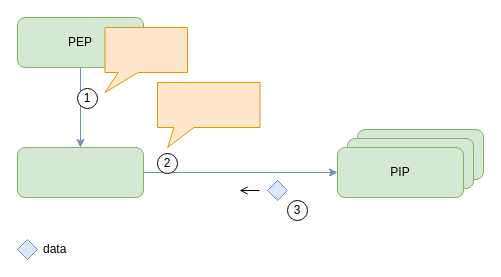
Image size: 501x277. Some labels were removed from this diagram. Each missing label, with the centre of its shape:
"authorize" request: pixel 146 59
get data request: pixel 208 115
PDP: pixel 80 172
